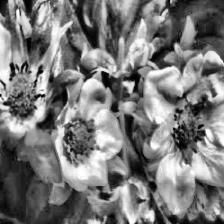Blossom Blight: (0, 57, 51, 131), (165, 88, 212, 166)
